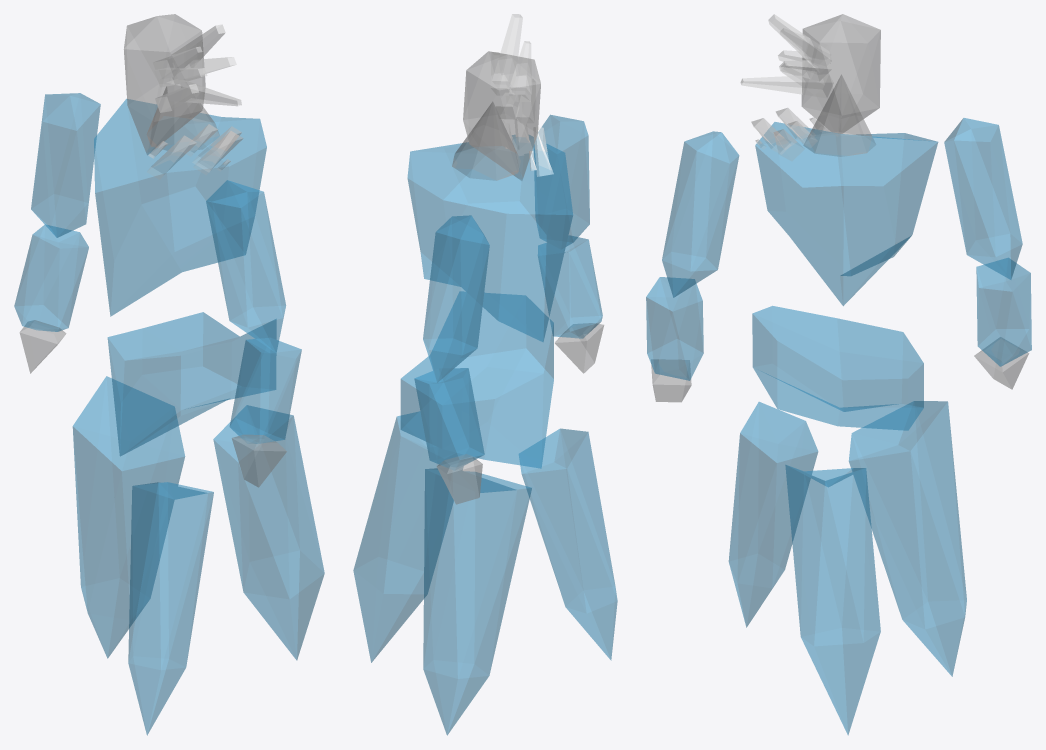
The model's file is ghostIdle13.obj.
3 views of the same model, side by side, from view 1: azimuth 30°, elevation 25°; view 2: azimuth 150°, elevation 25°; view 3: azimuth 270°, elevation 25° (orthographic). The views are drawn at different scales.
Visible parts, largest first — view 1: Cube.001_Cube.001, Icosphere.005, Icosphere.004, Cube_Cube.002, Icosphere.003, Icosphere.005_Icosphere.001, Icosphere.003_Icosphere.001, Icosphere.007_Icosphere.001, Icosphere.008_Icosphere.001, Icosphere.006_Icosphere.001, Cone_Cone.002, Cube.002_Cube.001 (+9 smaller); view 2: Cube.001_Cube.001, Cube_Cube.002, Icosphere.005, Icosphere.004, Icosphere.003, Icosphere.007_Icosphere.001, Icosphere.003_Icosphere.001, Icosphere.005_Icosphere.001, Icosphere.008_Icosphere.001, Icosphere.006_Icosphere.001, Cone_Cone.002, Cube.003_Cube.001 (+5 smaller); view 3: Cube.001_Cube.001, Icosphere.005, Icosphere.004, Cube_Cube.002, Icosphere.003, Icosphere.005_Icosphere.001, Icosphere.007_Icosphere.001, Icosphere.003_Icosphere.001, Icosphere.006_Icosphere.001, Icosphere.008_Icosphere.001, Cone_Cone.002, Cube.003_Cube.001 (+4 smaller).
Part boxes in pixels (x1,y1,x2,y2): Cube.001_Cube.001: (94,99,266,316); Icosphere.005: (72,376,185,658); Icosphere.004: (213,405,324,660); Cube_Cube.002: (107,312,276,456); Icosphere.003: (128,482,213,735); Icosphere.005_Icosphere.001: (206,180,285,352); Icosphere.003_Icosphere.001: (124,14,205,154); Icosphere.007_Icosphere.001: (31,93,100,237); Icosphere.008_Icosphere.001: (14,225,88,331); Icosphere.006_Icosphere.001: (229,338,301,443); Cone_Cone.002: (147,86,219,150); Cube.002_Cube.001: (232,435,286,487); Cube.001_Cube.001: (407,135,572,341); Cube_Cube.002: (400,291,553,468); Icosphere.005: (423,468,531,735); Icosphere.004: (353,411,462,662); Icosphere.003: (519,428,617,660); Icosphere.007_Icosphere.001: (423,215,489,382); Icosphere.003_Icosphere.001: (463,51,540,180); Icosphere.005_Icosphere.001: (534,114,589,248); Icosphere.008_Icosphere.001: (414,368,484,470); Icosphere.006_Icosphere.001: (538,235,602,338); Cone_Cone.002: (452,102,518,180); Cube.003_Cube.001: (437,454,482,504); Cube.001_Cube.001: (755,122,938,305); Icosphere.005: (849,401,966,676); Icosphere.004: (785,465,880,735); Cube_Cube.002: (752,306,923,430); Icosphere.003: (728,402,818,627); Icosphere.005_Icosphere.001: (662,131,739,297); Icosphere.007_Icosphere.001: (944,118,1022,279); Icosphere.003_Icosphere.001: (801,14,880,133); Icosphere.006_Icosphere.001: (646,277,703,380); Icosphere.008_Icosphere.001: (976,258,1031,366); Cone_Cone.002: (803,74,875,156); Cube.003_Cube.001: (974,337,1028,389).
Size of the model in its own units: 16.7 by 49.1 by 25.61.
